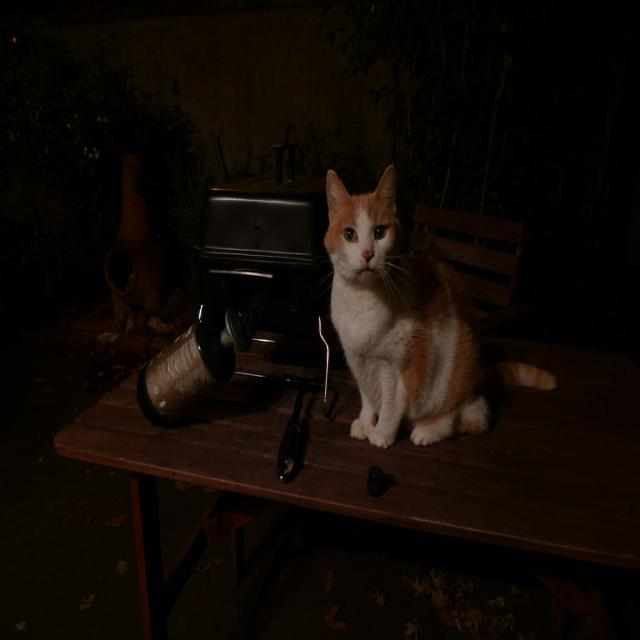Cat: (321, 162, 553, 446)
